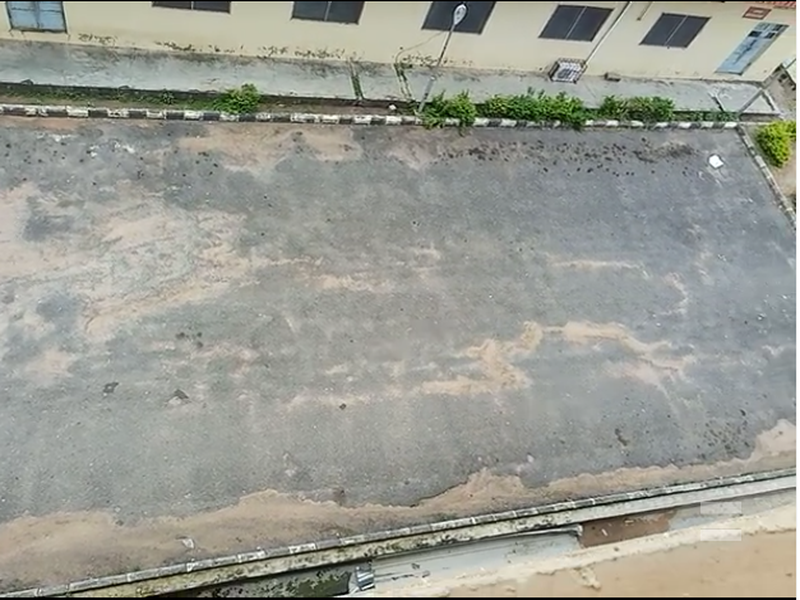five: (647, 98, 800, 290)
four: (487, 99, 593, 284)
one: (1, 77, 106, 276)
three: (317, 97, 430, 279)
two: (154, 88, 264, 283)
